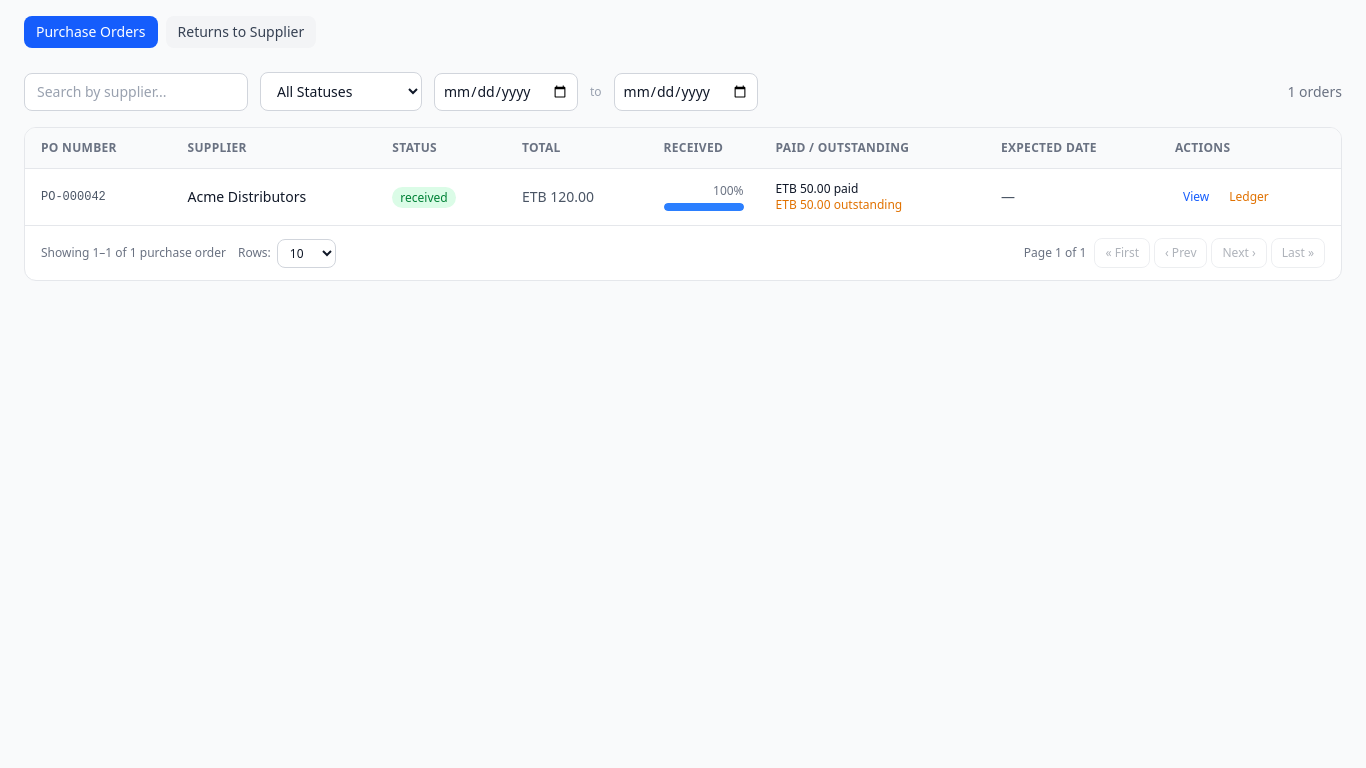
Test case: the order's page (1a) › is not offered to a Stock_Clerk or Finance_Officer, nor once everything went back
Expected: the text "Acme Distributors" is shown, [172,168,376,225]
Click the button "View": click(1196, 197) [1175,185,1217,209]
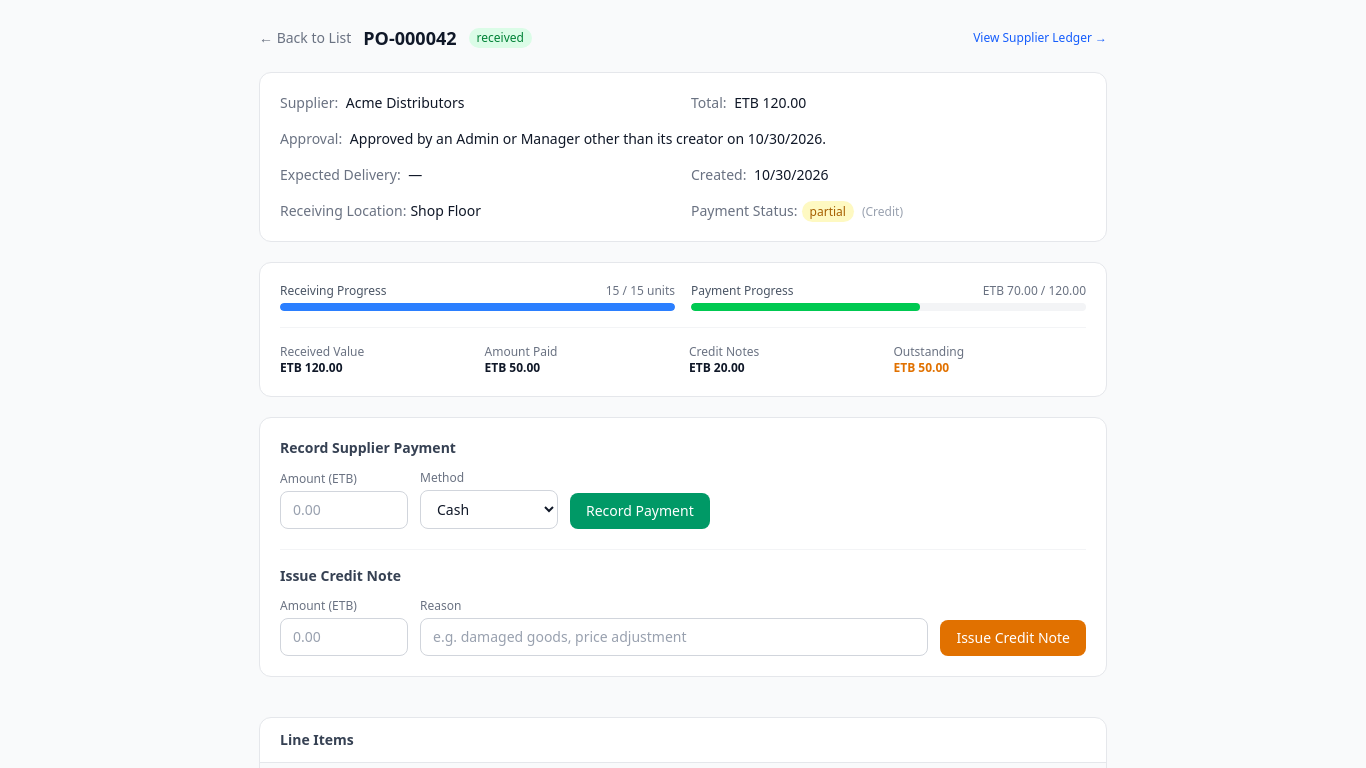
Expected: the heading "Line Items" is shown, [280,730,354,749]
Expected: the dropdown labelled "Return to Supplier" is gone
